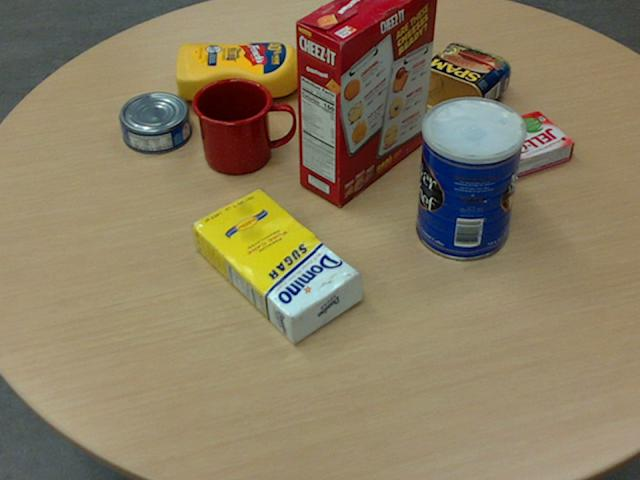cracker_box: (294, 0, 437, 205)
gelatin_box: (477, 109, 573, 177)
large_marker: (345, 21, 362, 110)
master_chef_can: (415, 96, 524, 261)
mug: (190, 77, 294, 174)
mustard_bottle: (175, 41, 326, 99)
potted_meat_can: (409, 42, 509, 123)
sugar_box: (188, 188, 362, 344)
tomato_soup_can: (342, 0, 393, 72)
tuna_fish_can: (118, 91, 190, 152)
